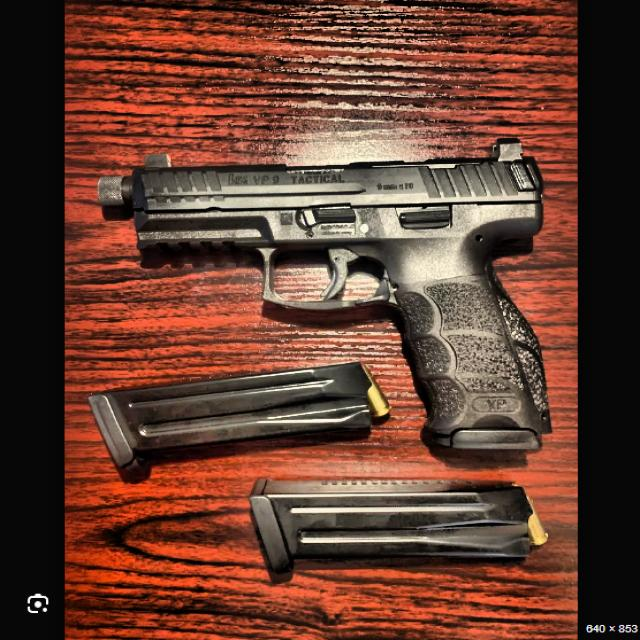HKVP9: (95, 136, 552, 454)
